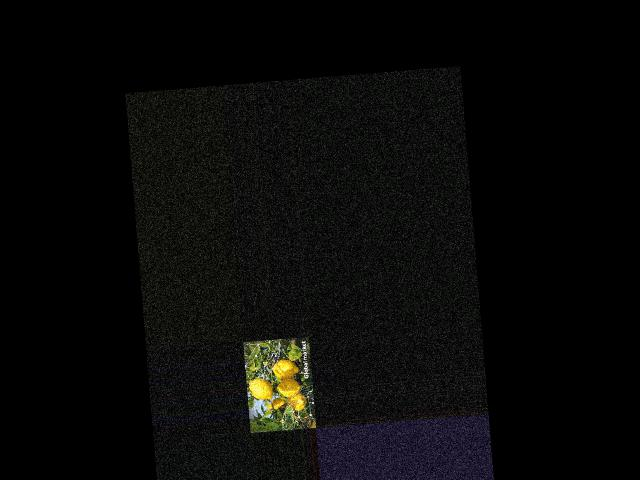lemon: (246, 376, 275, 401)
